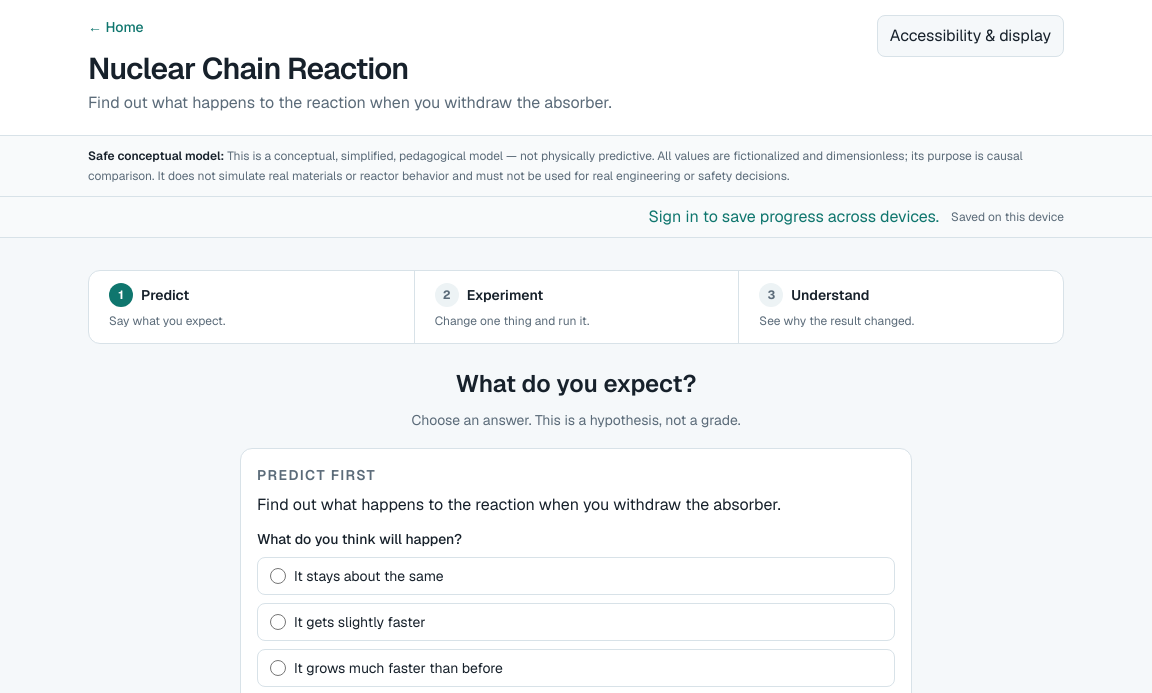
Scenario: ExperimentShell main learner flow › runs a trial, records the outcome, and offers an adaptation
Click the radio button labelled "It gets slightly faster".
click(278, 622)  # box [270,614,286,630]
(page scrolled)
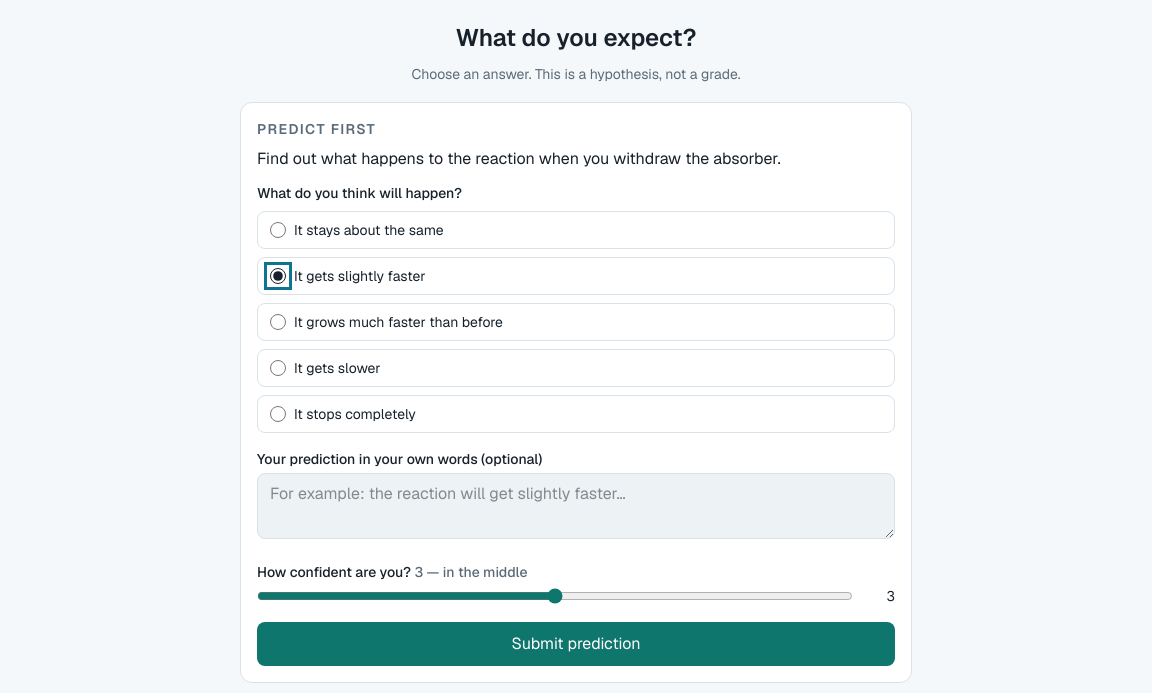
Click the button "Submit prediction".
click(576, 644)  # box [257,622,895,666]
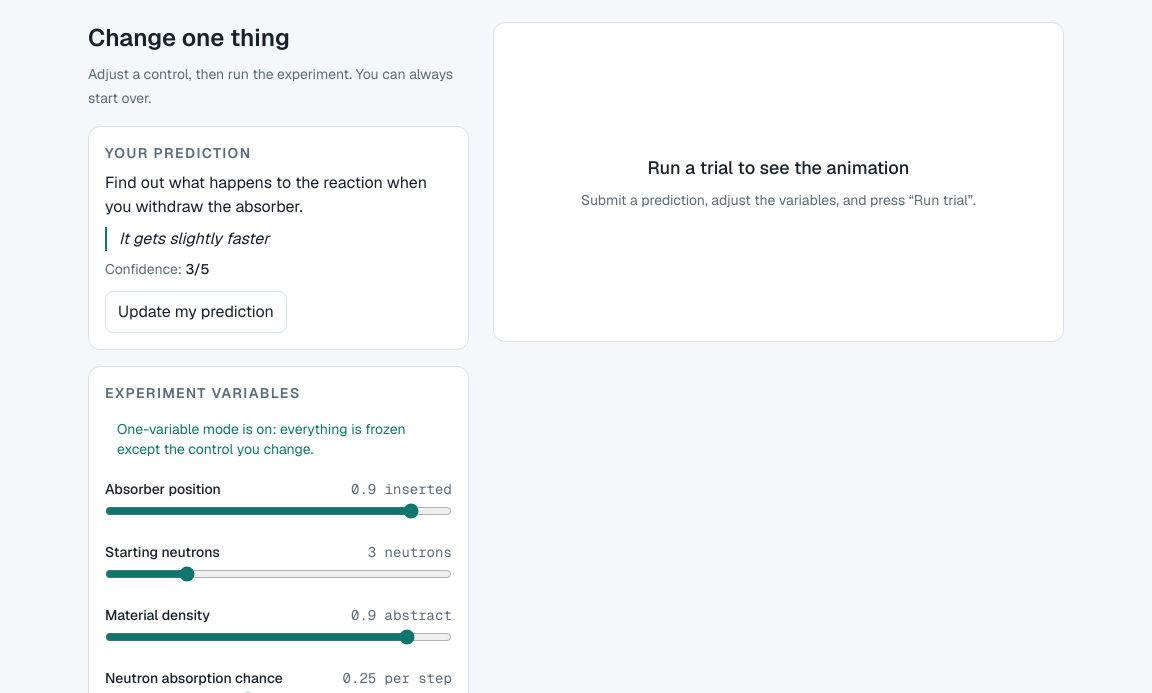
Set the slider labelled "Absorber position" to "0" at (113, 511), box [105,503,452,519]
(page scrolled)
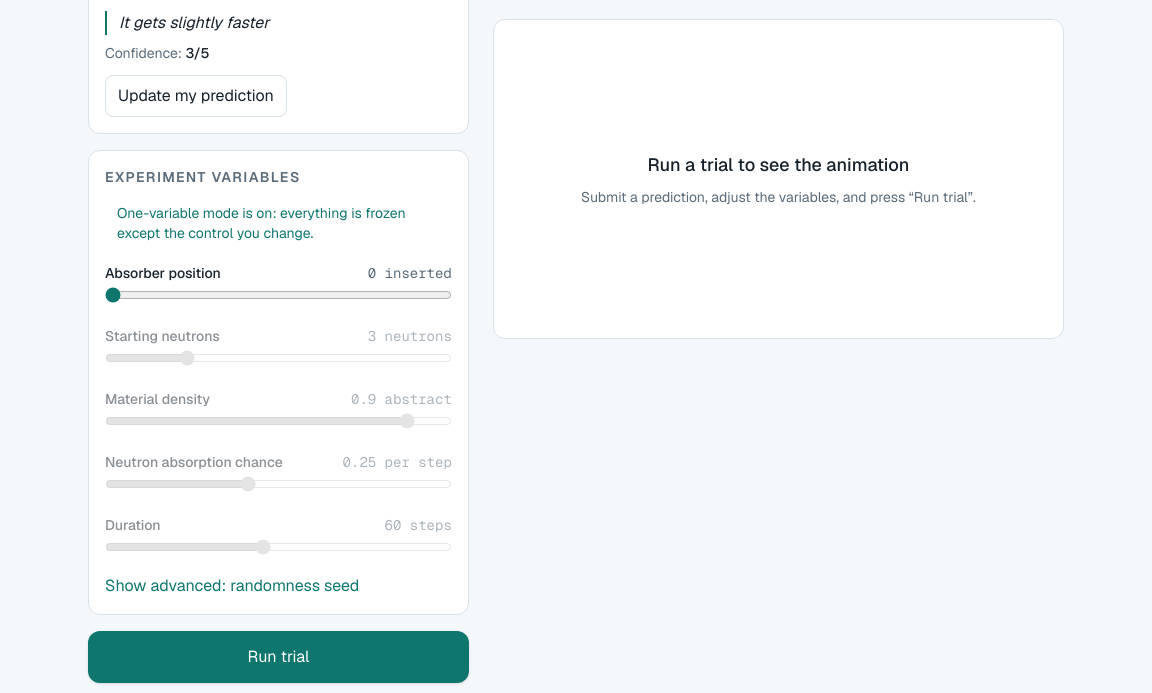
Click the button "Run trial".
click(278, 657)  # box [88,631,469,683]
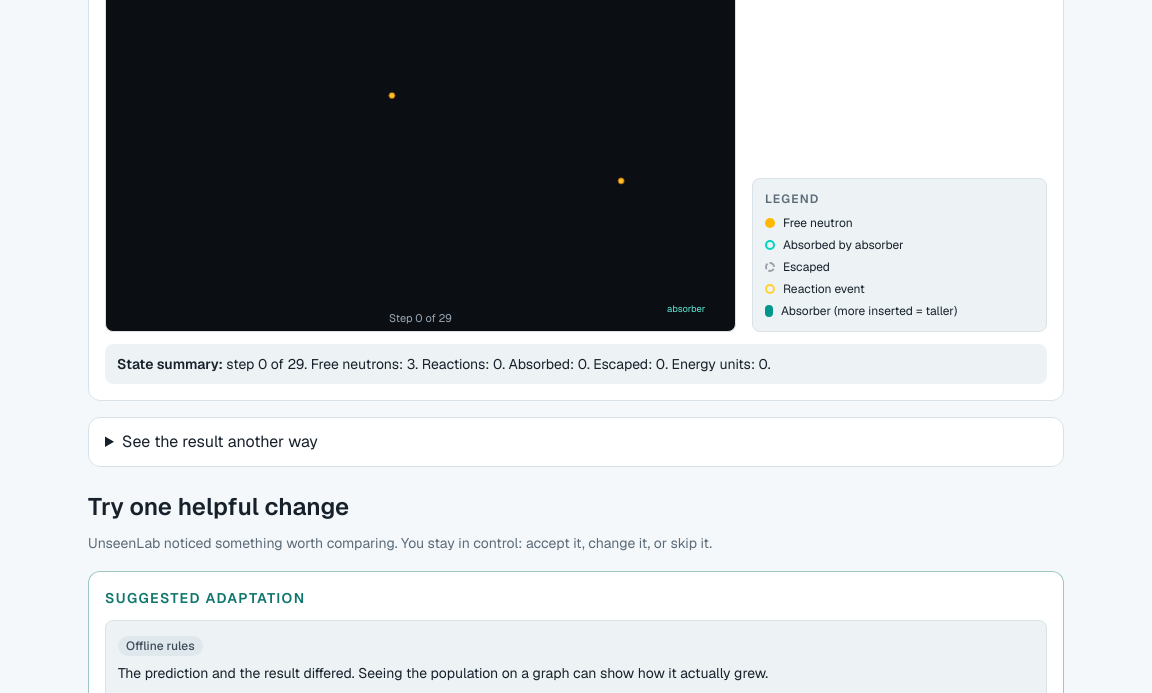
Check: the text "State summary:" is shown, box [117,355,223,373]
Check: the heading "Suggested adaptation" is shown, box [105,589,306,607]
